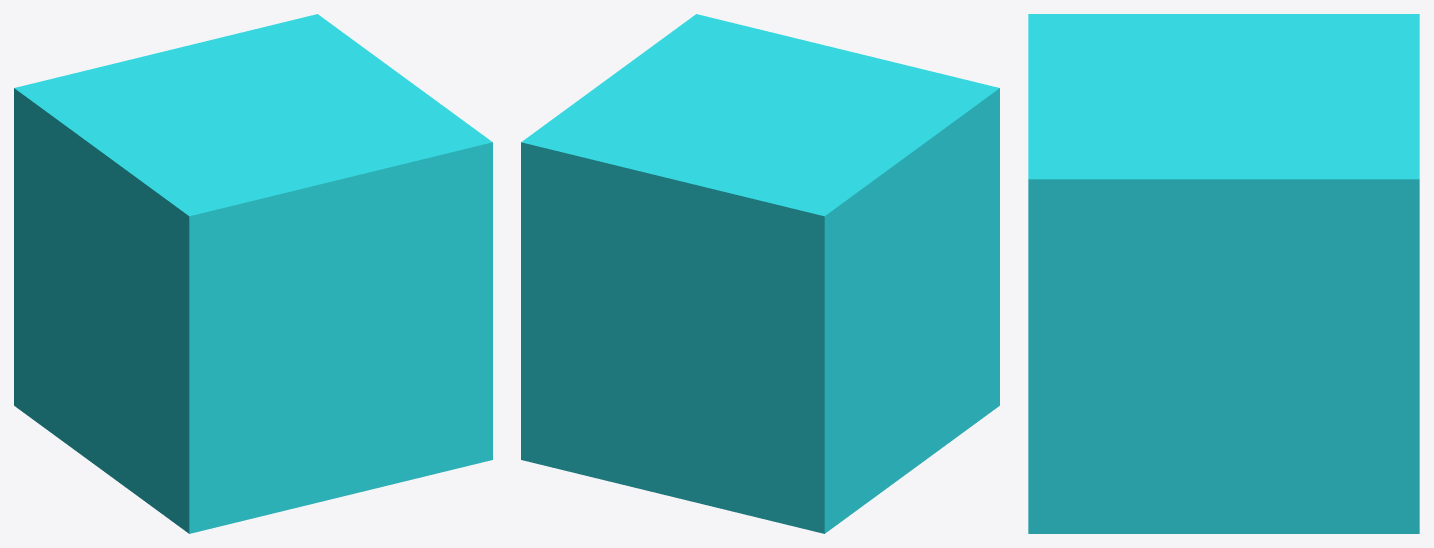
Rendered from WaterTile.fbx.
The picture shows the model from 3 angles, left to right: view 1: azimuth 30°, elevation 25°; view 2: azimuth 150°, elevation 25°; view 3: azimuth 270°, elevation 25°; orthographic projection. The views are drawn at different scales.
Parts seen in each view (by area): view 1: WaterBlock; view 2: WaterBlock; view 3: WaterBlock.
Boxes of the visible parts, box(x1,y1,x2,y2) form: WaterBlock: box(14, 14, 492, 533); WaterBlock: box(521, 14, 999, 533); WaterBlock: box(1028, 14, 1419, 533).
Bounding box in the file's own units: 0.1 × 0.1 × 0.1.
1 material, 1 textured.
